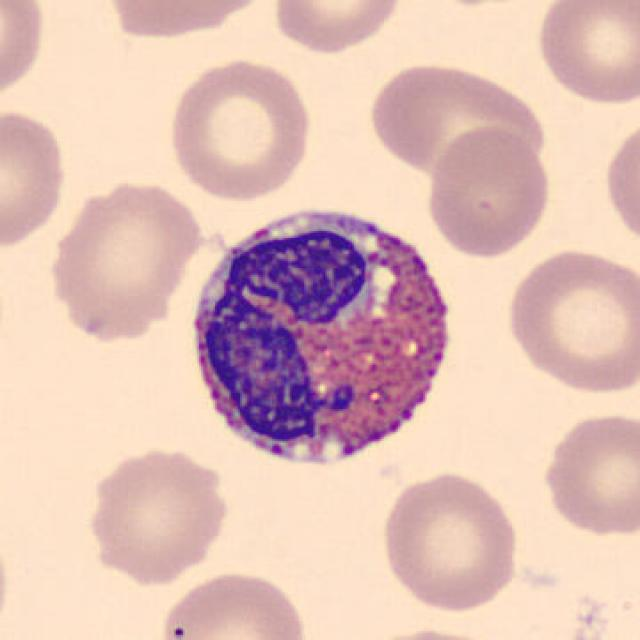Eosinophil: (180, 192, 471, 485)
RBC: (41, 172, 208, 346), (164, 53, 316, 203), (362, 58, 546, 178), (377, 466, 524, 616), (82, 442, 233, 586), (502, 244, 638, 398), (423, 123, 555, 260), (537, 408, 638, 540), (155, 566, 313, 640), (532, 0, 638, 108), (0, 104, 71, 254), (268, 0, 407, 56), (96, 0, 276, 41), (601, 113, 640, 254), (0, 0, 48, 108), (356, 624, 506, 640)
